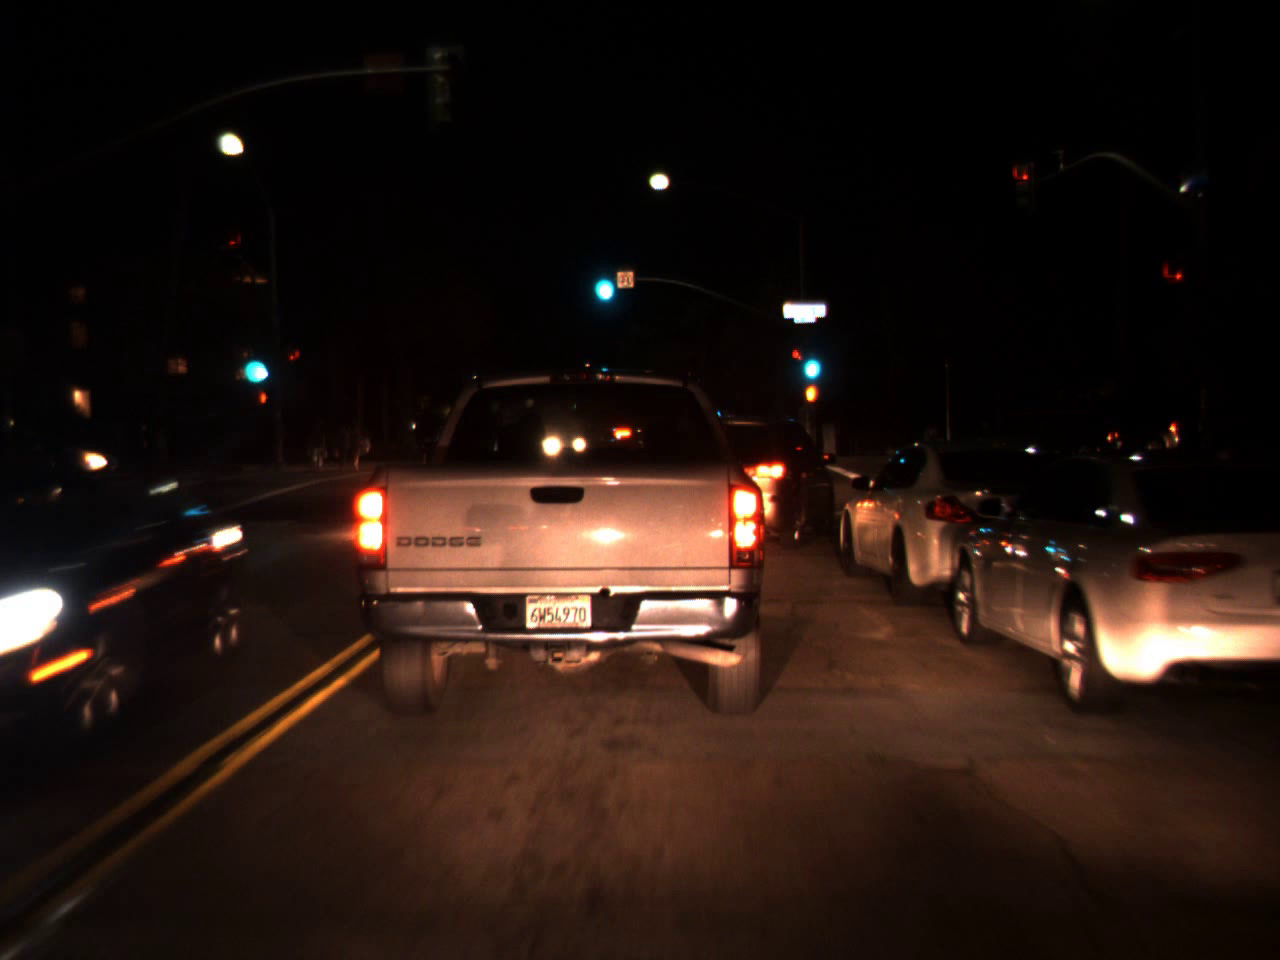go: (236, 332, 270, 392), (587, 254, 617, 308), (797, 333, 824, 387)
